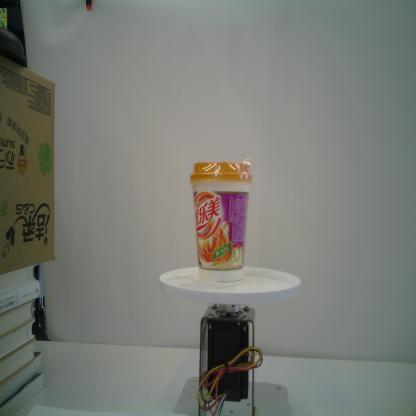Instant Drink: (188, 159, 252, 282)
